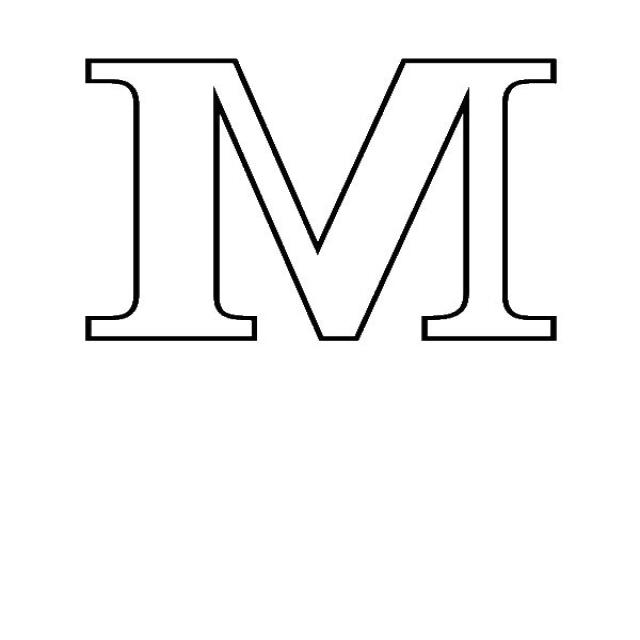M: (47, 30, 568, 388)
